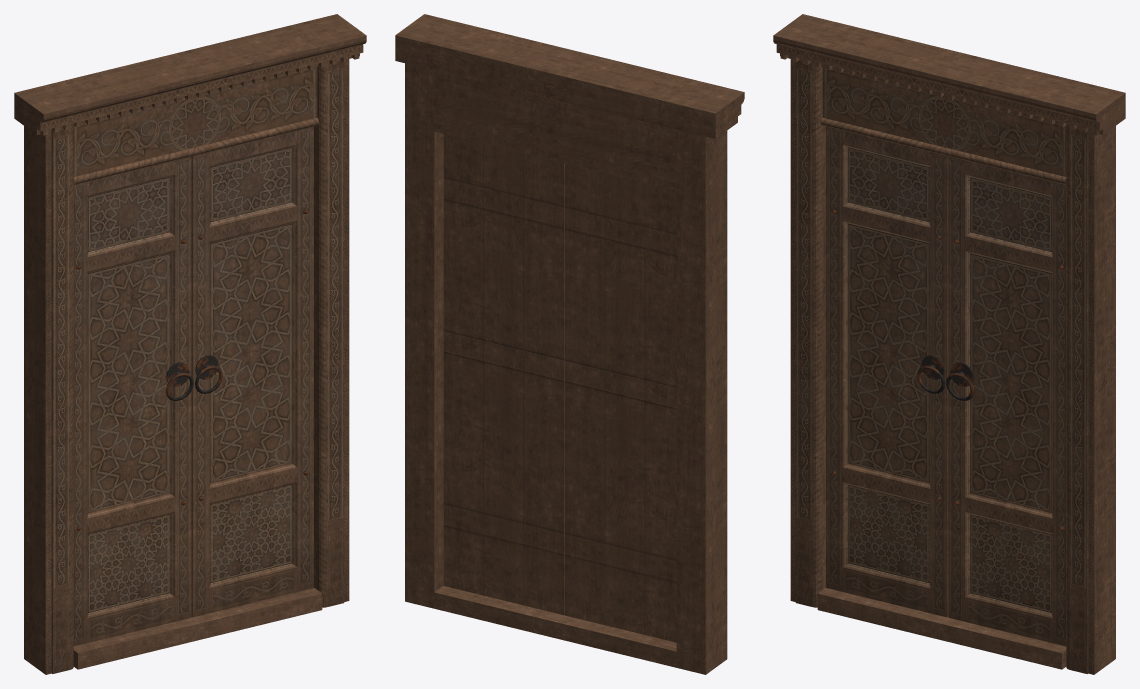
File: door_khujand.glb
3 renders of one model, left to right at view 1: azimuth 30°, elevation 25°; view 2: azimuth 150°, elevation 25°; view 3: azimuth 330°, elevation 25°, orthographic.
Visible parts, largest first — view 1: door_frame, leaf_right, leaf_left; view 2: door_frame, leaf_right, leaf_left; view 3: door_frame, leaf_left, leaf_right.
Part boxes in pixels (<box>): door_frame: <box>14,14,366,674</box>; leaf_right: <box>191,126,313,617</box>; leaf_left: <box>73,156,193,646</box>; door_frame: <box>395,14,744,674</box>; leaf_right: <box>443,134,564,615</box>; leaf_left: <box>564,163,676,642</box>; door_frame: <box>773,14,1125,674</box>; leaf_left: <box>826,126,948,617</box>; leaf_right: <box>946,156,1066,646</box>.
Bounding box in the file's own units: 1.64 × 2.77 × 0.26.
1 material, 1 textured.
